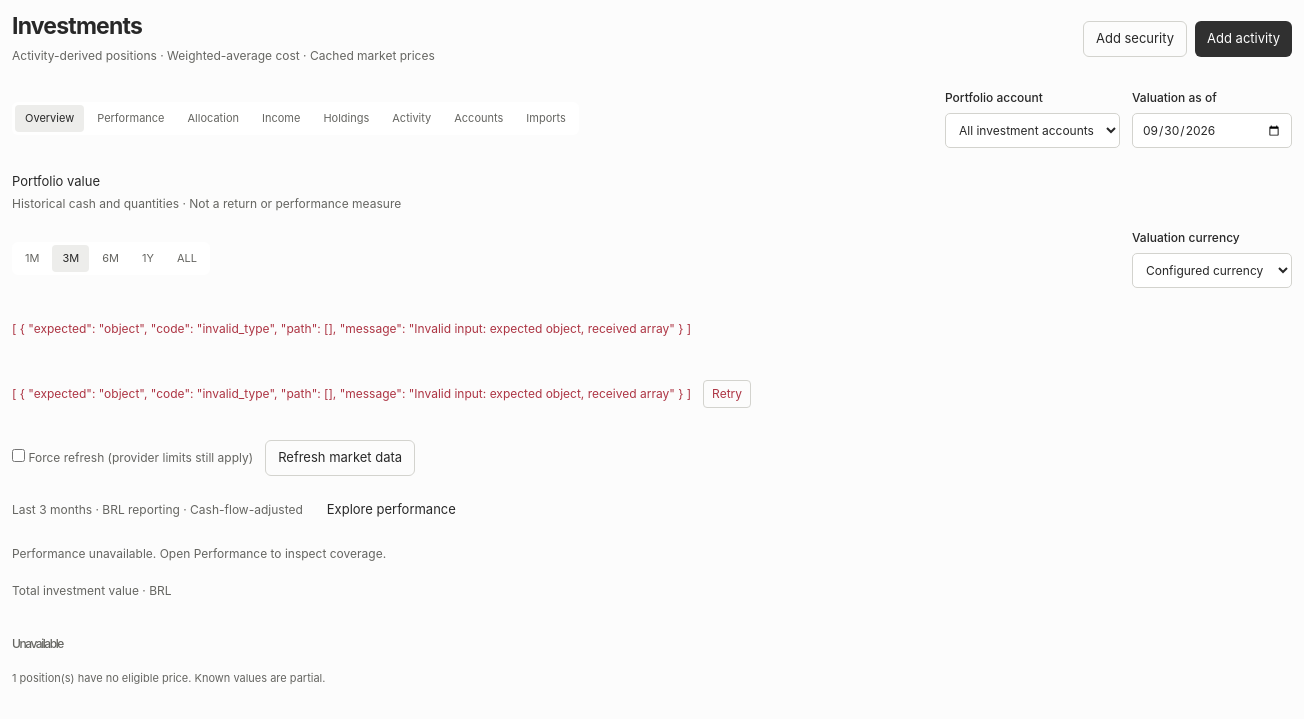
Scenario: adapts sell, dividend and fee inputs and invalidates confirmation when fields change
Click the button "Add activity" at (1244, 38), box [1195,20,1292,56]
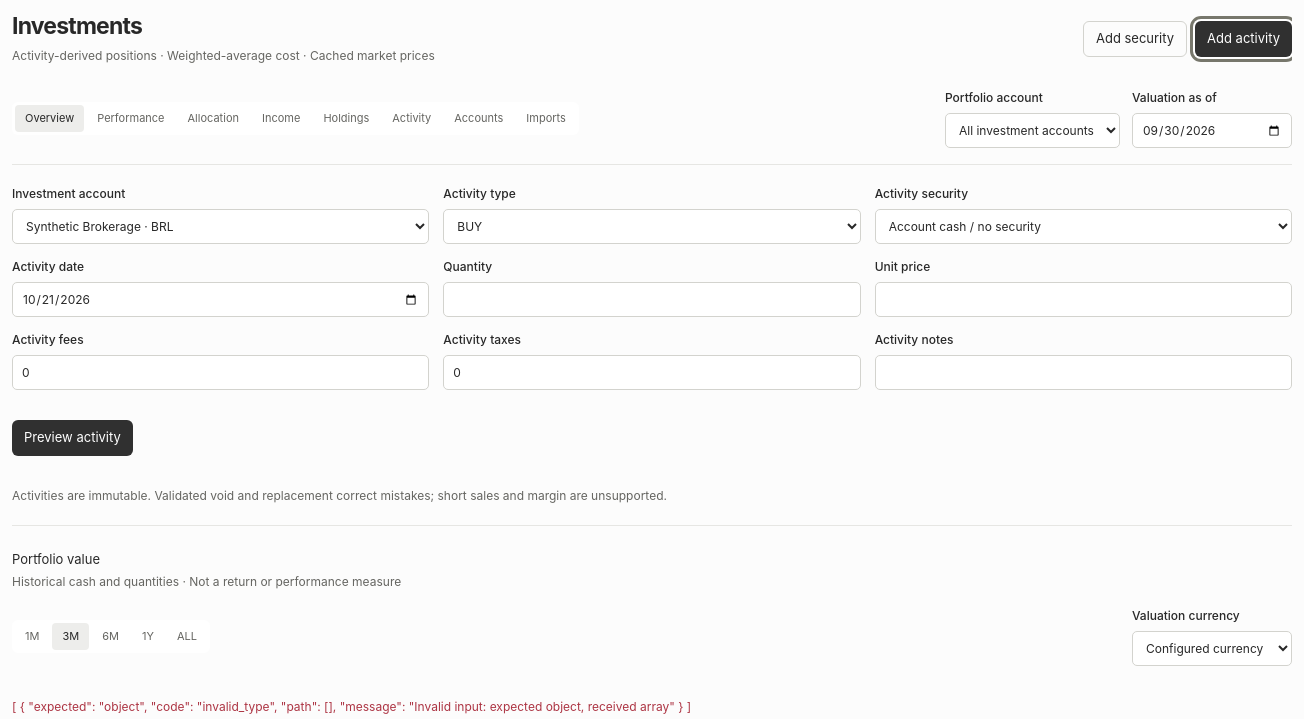
Select "SELL" in the dropdown labelled "Activity type" at (652, 227), box [443,209,861,244]
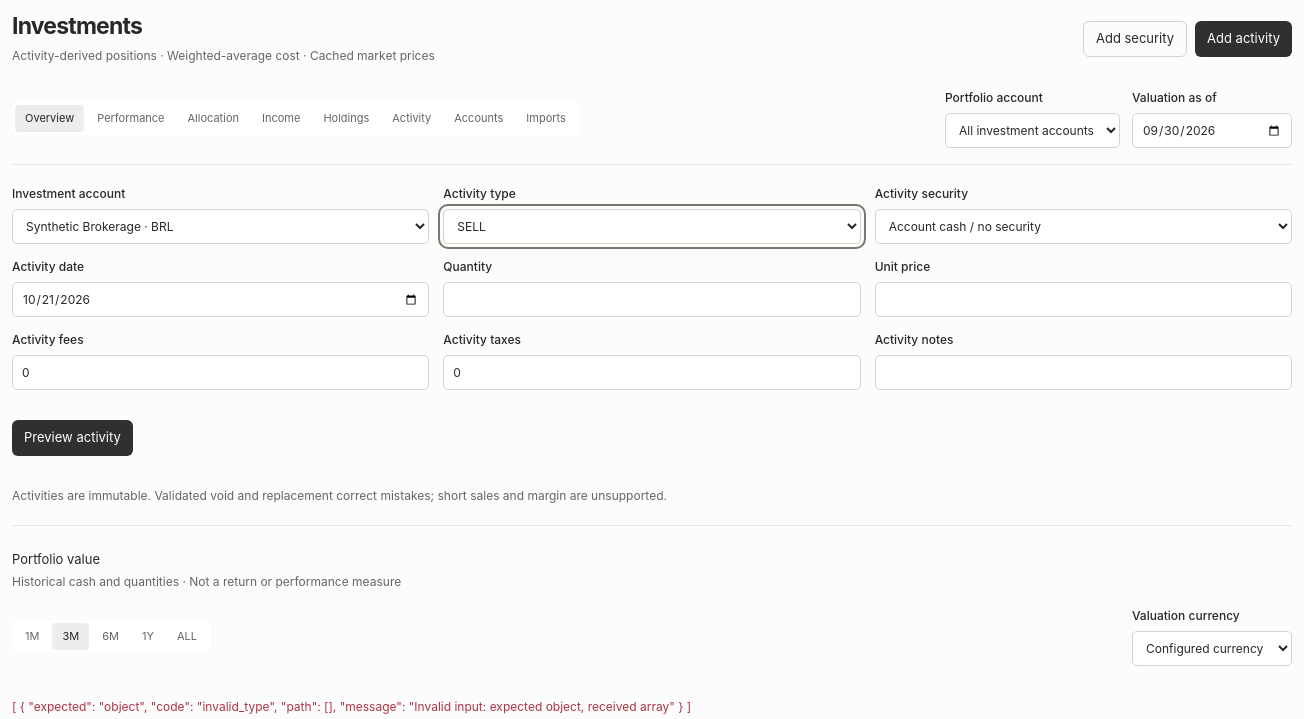
Expected: the field labelled "Quantity" is shown, [443,282,861,317]
Select "DIVIDEND" in the dropdown labelled "Activity type" at (652, 227), box [443,209,861,244]
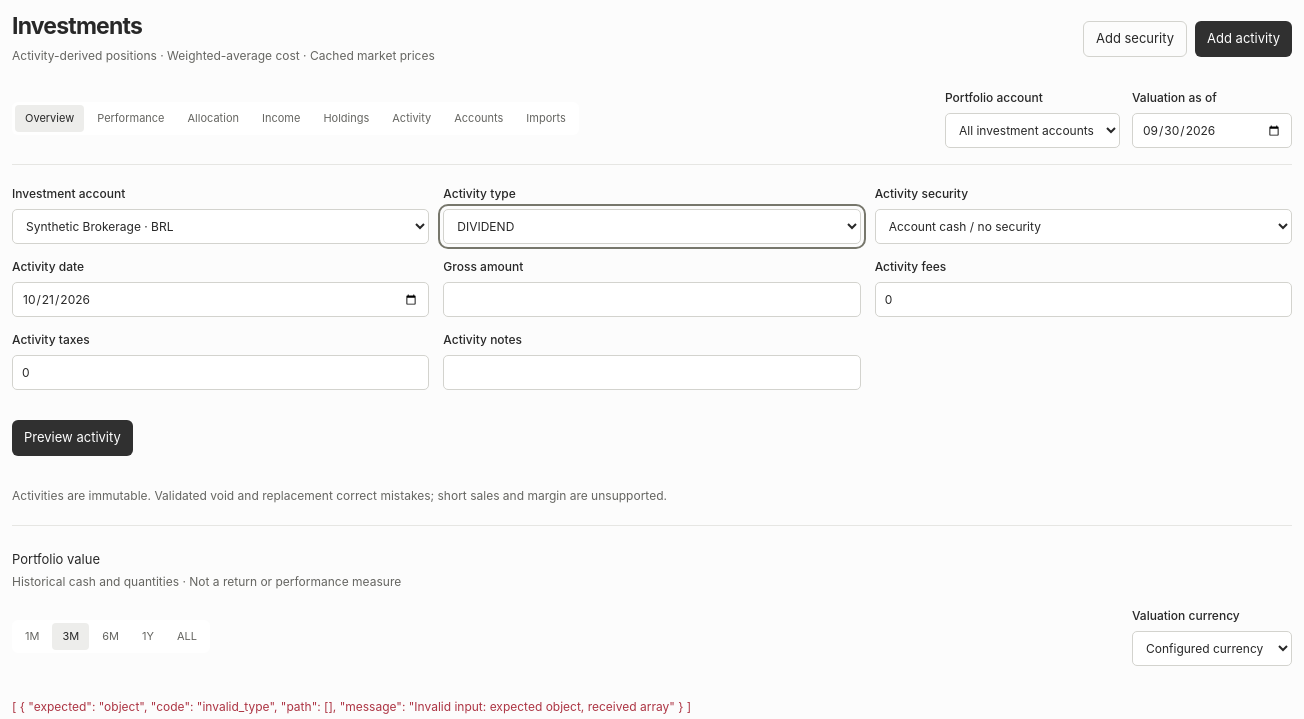
Expected: the field labelled "Quantity" is not shown
Expected: the field labelled "Gross amount" is shown, [443,282,861,317]
Select "FEE" in the dropdown labelled "Activity type" at (652, 227), box [443,209,861,244]
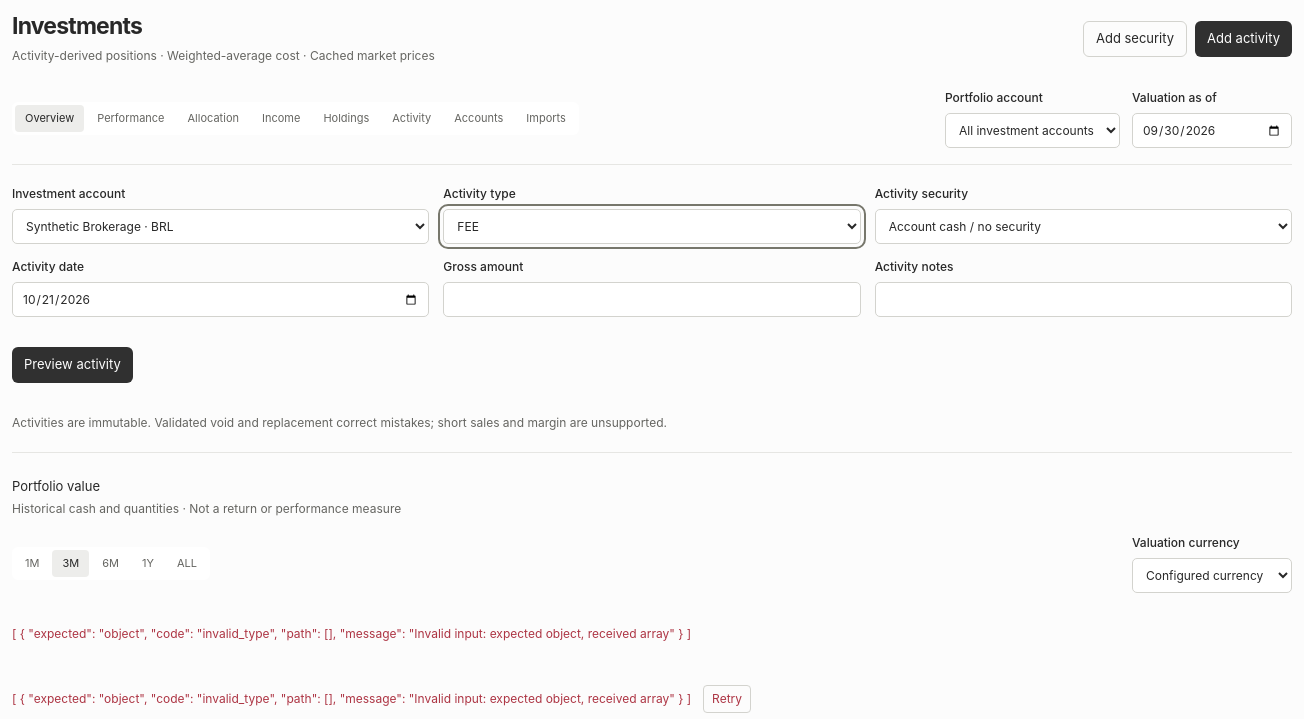
Expected: the label labelled "Activity fees" is gone
